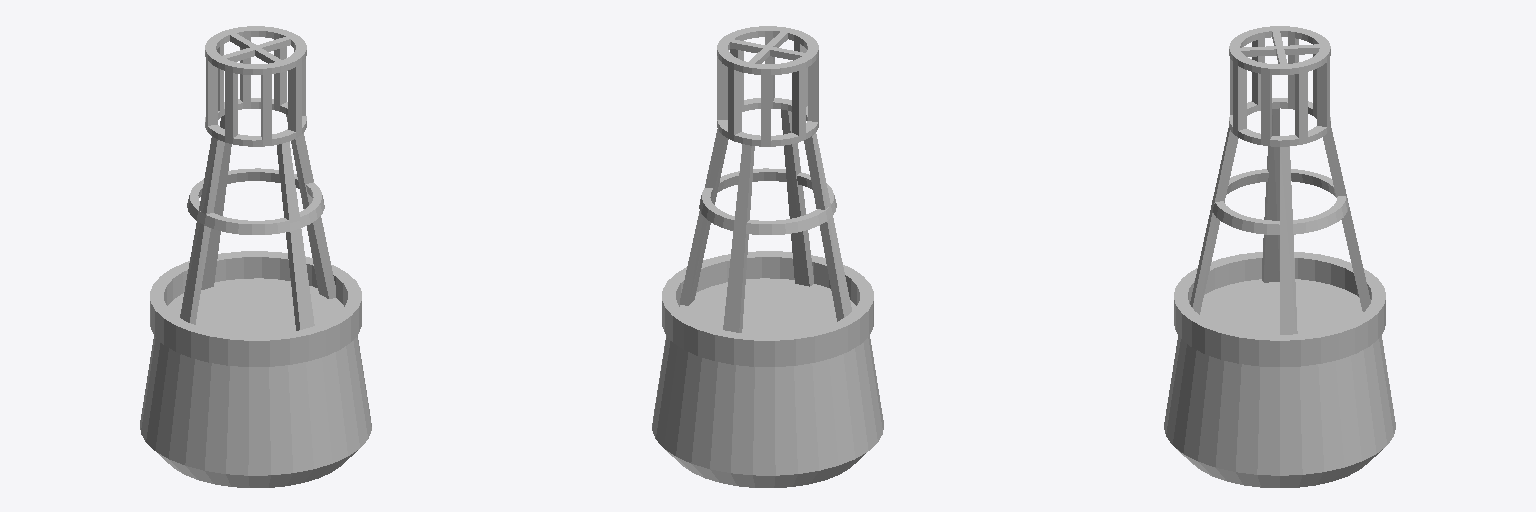
Rendered from Buoy.obj.
3 views of the same model, side by side, from view 1: azimuth 30°, elevation 25°; view 2: azimuth 150°, elevation 25°; view 3: azimuth 270°, elevation 25° (orthographic).
Parts seen in each view (by area): view 1: Cylinder; view 2: Cylinder; view 3: Cylinder.
Part boxes in pixels (x1,y1,x2,y2): Cylinder: (140,26,371,487); Cylinder: (652,26,883,487); Cylinder: (1164,26,1395,487).
Bounding box in the file's own units: 2.35 × 4.65 × 2.35.